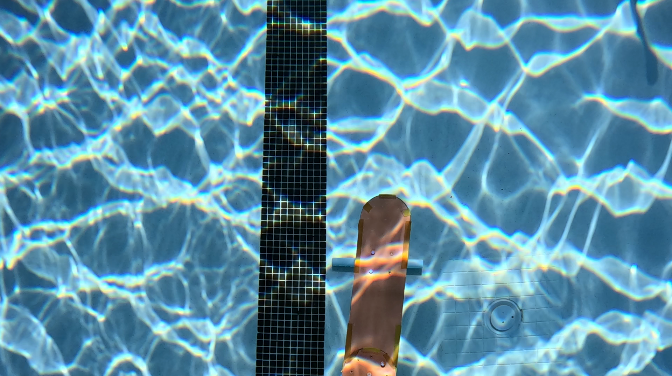pathmarker: (342, 195, 410, 375)
